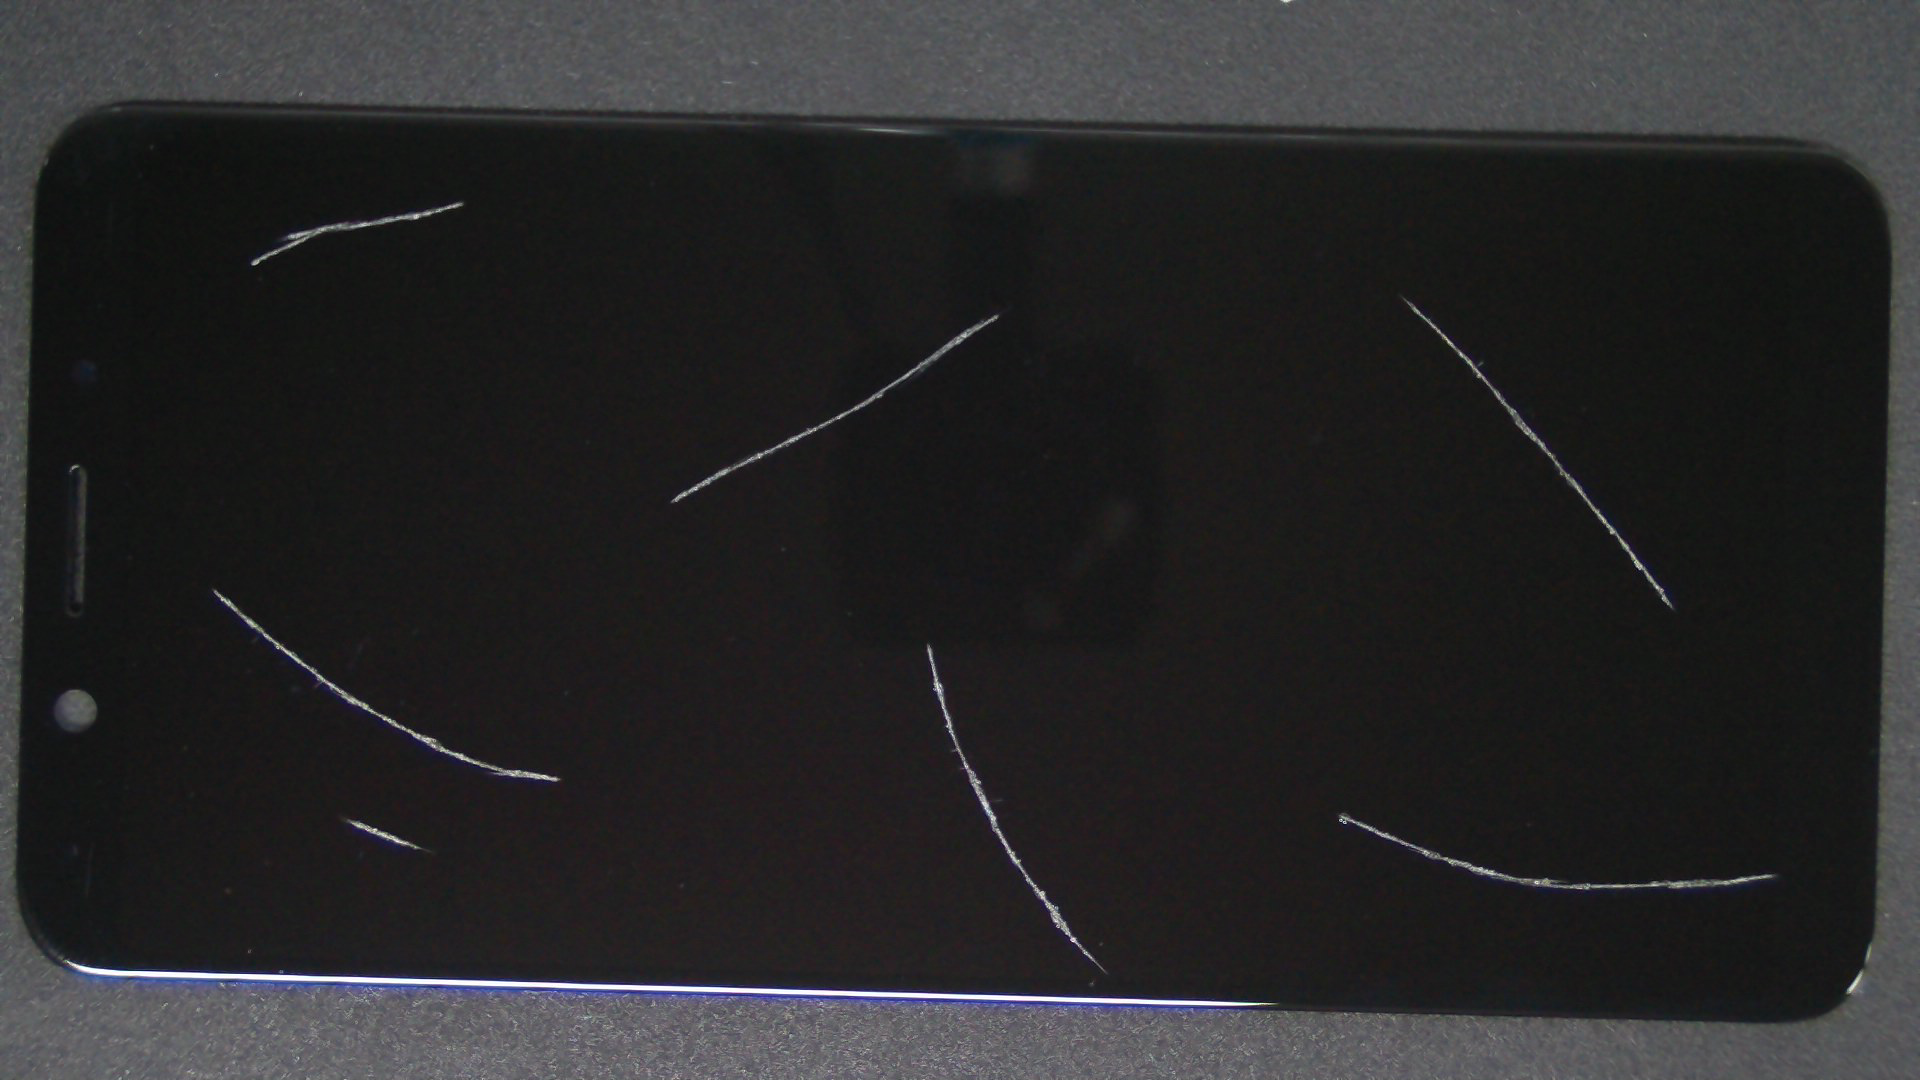defect: (1400, 295, 1673, 611), (211, 587, 560, 782), (670, 314, 1000, 502), (926, 641, 1108, 975), (1337, 810, 1778, 890), (248, 200, 464, 266), (343, 818, 433, 853)
